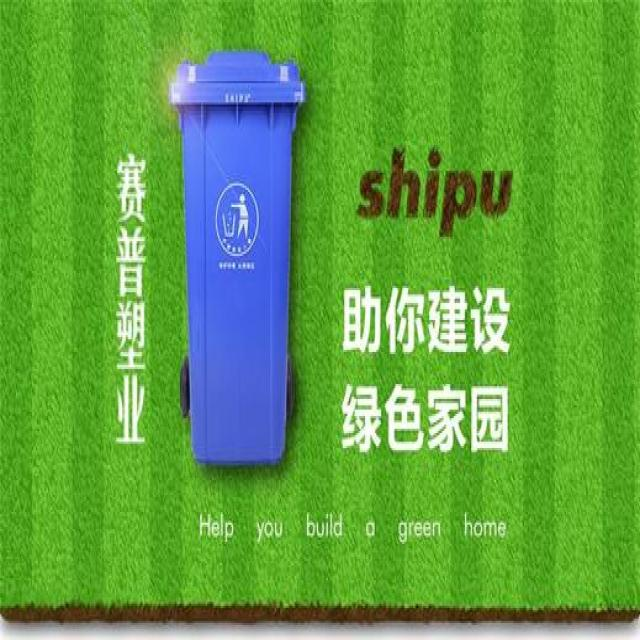garbage_bin: (170, 53, 302, 465)
